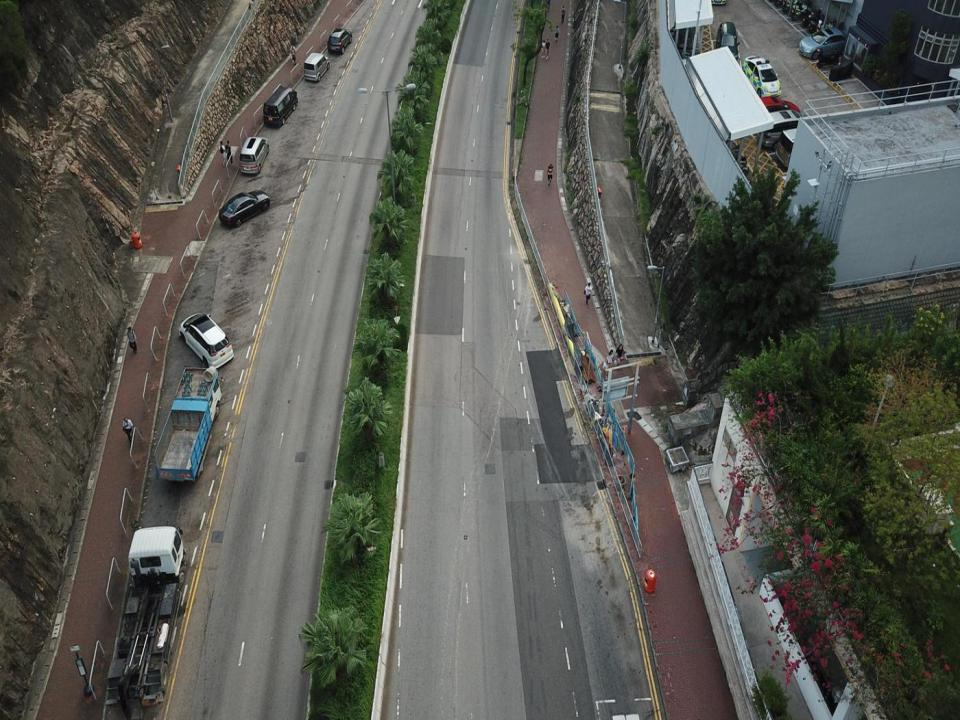car: (218, 189, 270, 228), (799, 26, 852, 61), (750, 96, 800, 132), (328, 27, 352, 54)
truck: (106, 525, 185, 719), (154, 366, 224, 483)
van: (178, 312, 234, 371), (776, 123, 829, 169), (756, 109, 812, 152), (262, 84, 298, 126), (239, 137, 270, 174), (716, 21, 740, 61), (304, 52, 329, 82)
